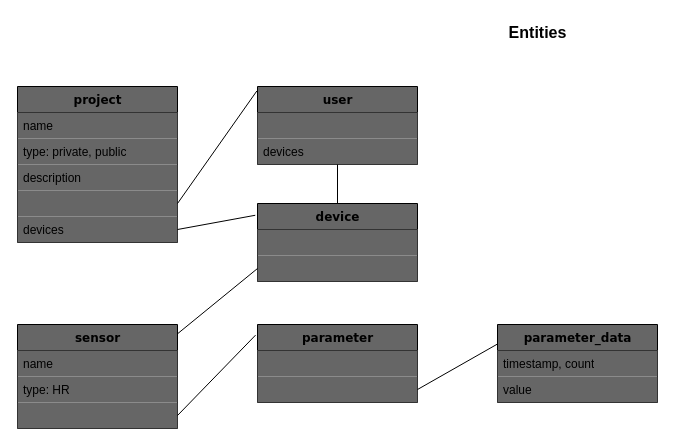
The diagram is 675 pixels wide and 448 high, and some of its shapes have lost their labels. The shapes that lost their labels are listed below. From the top down, each one's centre as x and y in pixels, then its label:
At [337,125]: "login".
At [97,203]: "users".
At [337,242]: "type: xiaomi x-1, garmin g-7".
At [337,268]: "sensors".
At [337,363]: "type: bpm, kg, mmHg,".
At [337,389]: "data".
At [97,415]: "parameters".
